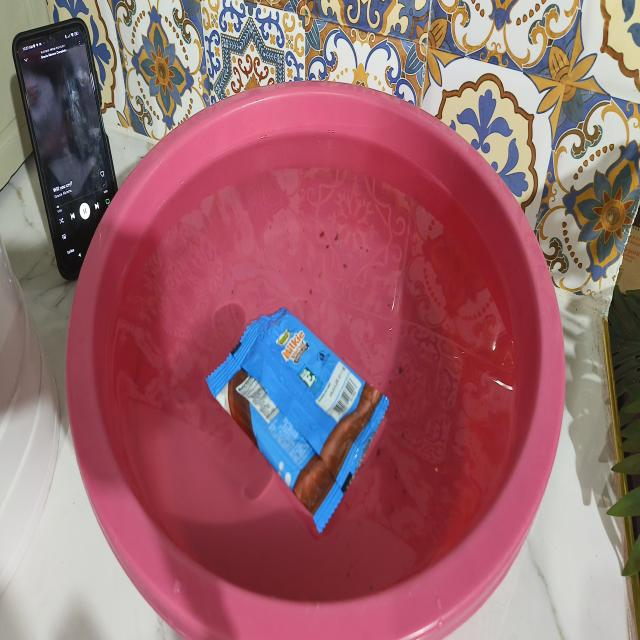Plastic Wrapper: (207, 308, 389, 532)
